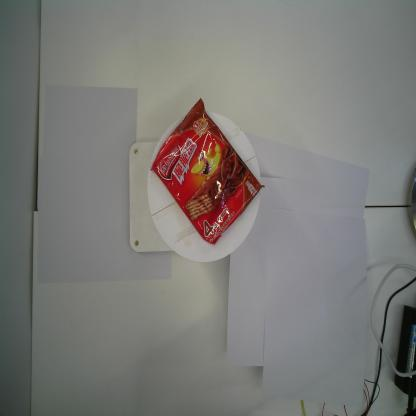Dessert: (150, 97, 265, 246)
